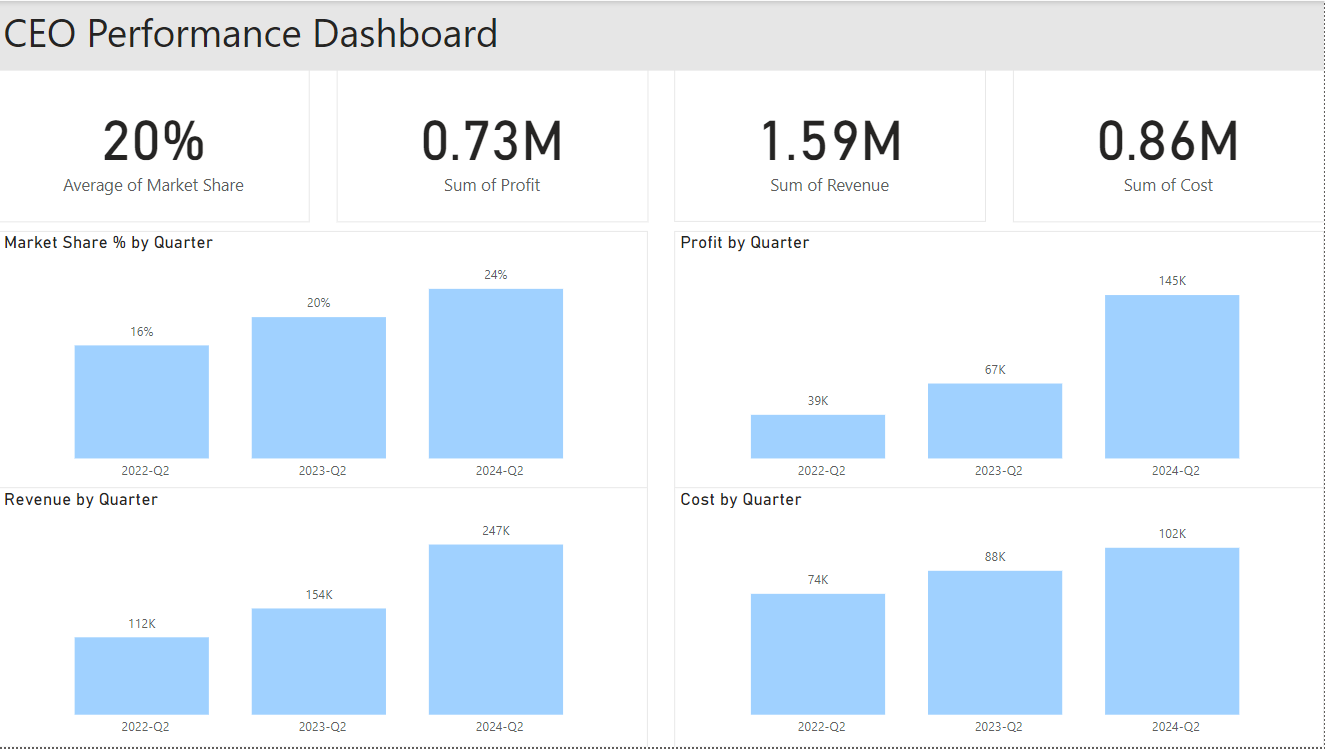

The page's visual inventory and layout, read from the dashboard file:
{"tool":"powerbi","page":{"name":"CEO","canvas":[1280,720],"ordinal":0},"visuals":[{"type":"card","fields":{"Values":["Sum(CEO.Revenue)"]},"box":[652.9,64.8,300.6,147.9],"z":0},{"type":"card","fields":{"Values":["Sum(CEO.Profit)"]},"box":[326.5,64,300.6,149.5],"z":1000},{"type":"card","fields":{"Values":["Sum(CEO.Cost)"]},"box":[979.4,64,300.6,149.5],"z":2000},{"type":"card","fields":{"Values":["Avg(CEO.Market Share)"]},"box":[0,64,300.6,149.5],"z":3000},{"type":"textbox","box":[0,0,1280.4,66.8],"z":4000},{"type":"columnChart","title":"Market Share % by Quarter","fields":{"Y":["Sum(CEO.Market Share)"],"Category":["CEO.Quarter"]},"box":[0,222,627.3,250.9],"z":5000},{"type":"columnChart","title":"Profit  by Quarter","fields":{"Y":["Sum(CEO.Profit)"],"Category":["CEO.Quarter"]},"box":[652.7,222,627.3,250.9],"z":6000},{"type":"columnChart","title":"Revenue by Quarter","fields":{"Category":["CEO.Quarter"],"Y":["Sum(CEO.Revenue)"]},"box":[0,469.3,627.3,250.9],"z":7000},{"type":"columnChart","title":"Cost by Quarter","fields":{"Category":["CEO.Quarter"],"Y":["Sum(CEO.Cost)"]},"box":[652.7,469.3,627.3,250.9],"z":8000}]}

Visuals, with their boxes in screenshot pixels (x1, y1, x2, y2), scaled from the page's 1280x720 canvas onto the 1325x749 screenshot:
card - Sum(CEO.Revenue): (x1=676, y1=67, x2=987, y2=221)
card - Sum(CEO.Profit): (x1=338, y1=67, x2=649, y2=222)
card - Sum(CEO.Cost): (x1=1014, y1=67, x2=1324, y2=222)
card - Avg(CEO.Market Share): (x1=0, y1=67, x2=311, y2=222)
textbox: (x1=0, y1=0, x2=1324, y2=69)
"Market Share % by Quarter" columnChart: (x1=0, y1=231, x2=649, y2=492)
"Profit  by Quarter" columnChart: (x1=676, y1=231, x2=1324, y2=492)
"Revenue by Quarter" columnChart: (x1=0, y1=488, x2=649, y2=748)
"Cost by Quarter" columnChart: (x1=676, y1=488, x2=1324, y2=748)
